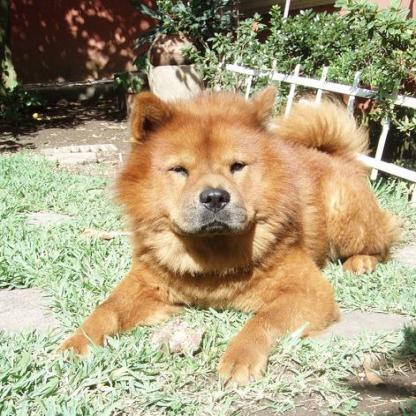chow: (58, 82, 400, 387)
